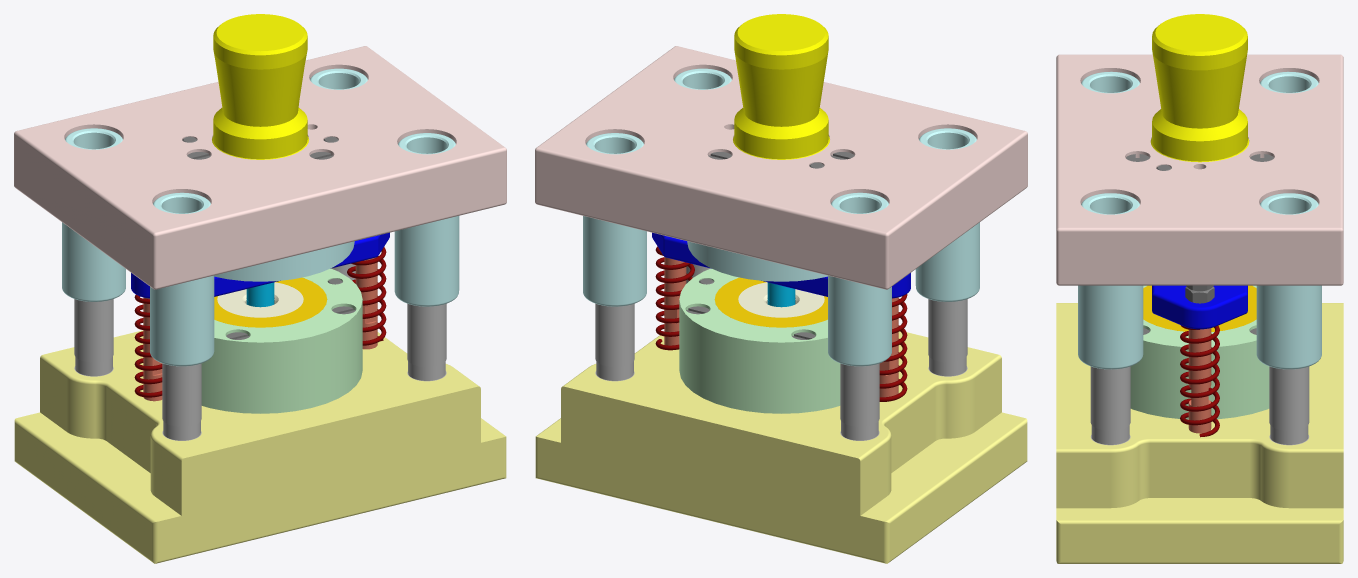
The model's file is Shtamp to extrude parts v1.glb.
3 views of the same model, side by side, from view 1: azimuth 30°, elevation 25°; view 2: azimuth 150°, elevation 25°; view 3: azimuth 270°, elevation 25° (orthographic).
Visible parts, largest first — view 1: Ïëèòà:1, Îñíîâàíèå:1, Îáîéìà:1, Õâîñòîâèê:1, Âòóëêà:1, Âòóëêà:4, Âòóëêà:2, Êîëîíêà:2, Êîëîíêà:4, Êîëîíêà:1, Ïóàíñîíîäåðæàòåëü:1, Êîëüöî:1 (+8 smaller); view 2: Ïëèòà:1, Îñíîâàíèå:1, Îáîéìà:1, Õâîñòîâèê:1, Âòóëêà:2, Âòóëêà:3, Âòóëêà:4, Êîëîíêà:3, Êîëîíêà:1, Êîëîíêà:4, Ïóàíñîíîäåðæàòåëü:1, Êîëüöî:1 (+8 smaller); view 3: Ïëèòà:1, Îñíîâàíèå:1, Õâîñòîâèê:1, Îáîéìà:1, Âòóëêà:1, Âòóëêà:3, Ñúåìíèê:1, Êîëîíêà:2, Êîëîíêà:3, Ïðóæèíà:1, Ñòîéêà:2, Êîëüöî:1 (+3 smaller).
Boxes of the visible parts, x1=… form: Ïëèòà:1: x1=14, y1=46, x2=506, y2=289; Îñíîâàíèå:1: x1=14, y1=330, x2=506, y2=563; Îáîéìà:1: x1=201, y1=268, x2=362, y2=413; Õâîñòîâèê:1: x1=212, y1=14, x2=308, y2=159; Âòóëêà:1: x1=394, y1=133, x2=459, y2=306; Âòóëêà:4: x1=150, y1=192, x2=214, y2=366; Âòóëêà:2: x1=62, y1=128, x2=125, y2=301; Êîëîíêà:2: x1=407, y1=303, x2=446, y2=381; Êîëîíêà:4: x1=162, y1=363, x2=201, y2=440; Êîëîíêà:1: x1=74, y1=299, x2=113, y2=376; Ïóàíñîíîäåðæàòåëü:1: x1=214, y1=241, x2=354, y2=281; Êîëüöî:1: x1=214, y1=277, x2=327, y2=327; Ïëèòà:1: x1=535, y1=46, x2=1027, y2=289; Îñíîâàíèå:1: x1=535, y1=331, x2=1027, y2=563; Îáîéìà:1: x1=679, y1=268, x2=840, y2=413; Õâîñòîâèê:1: x1=733, y1=14, x2=829, y2=159; Âòóëêà:2: x1=828, y1=192, x2=891, y2=366; Âòóëêà:3: x1=583, y1=133, x2=646, y2=306; Âòóëêà:4: x1=915, y1=128, x2=979, y2=301; Êîëîíêà:3: x1=595, y1=303, x2=634, y2=381; Êîëîíêà:1: x1=840, y1=363, x2=879, y2=440; Êîëîíêà:4: x1=928, y1=299, x2=967, y2=376; Ïóàíñîíîäåðæàòåëü:1: x1=687, y1=241, x2=827, y2=281; Êîëüöî:1: x1=714, y1=277, x2=827, y2=327; Ïëèòà:1: x1=1056, y1=54, x2=1343, y2=285; Îñíîâàíèå:1: x1=1056, y1=303, x2=1343, y2=563; Õâîñòîâèê:1: x1=1150, y1=14, x2=1249, y2=162; Îáîéìà:1: x1=1130, y1=285, x2=1269, y2=419; Âòóëêà:1: x1=1078, y1=193, x2=1143, y2=369; Âòóëêà:3: x1=1256, y1=193, x2=1321, y2=369; Ñúåìíèê:1: x1=1152, y1=285, x2=1247, y2=329; Êîëîíêà:2: x1=1090, y1=366, x2=1130, y2=445; Êîëîíêà:3: x1=1269, y1=366, x2=1309, y2=445; Ïðóæèíà:1: x1=1180, y1=325, x2=1219, y2=437; Ñòîéêà:2: x1=1188, y1=328, x2=1211, y2=433; Êîëüöî:1: x1=1143, y1=285, x2=1256, y2=331.
Bounding box in the file's own units: 0.26 × 0.3171 × 0.18.
